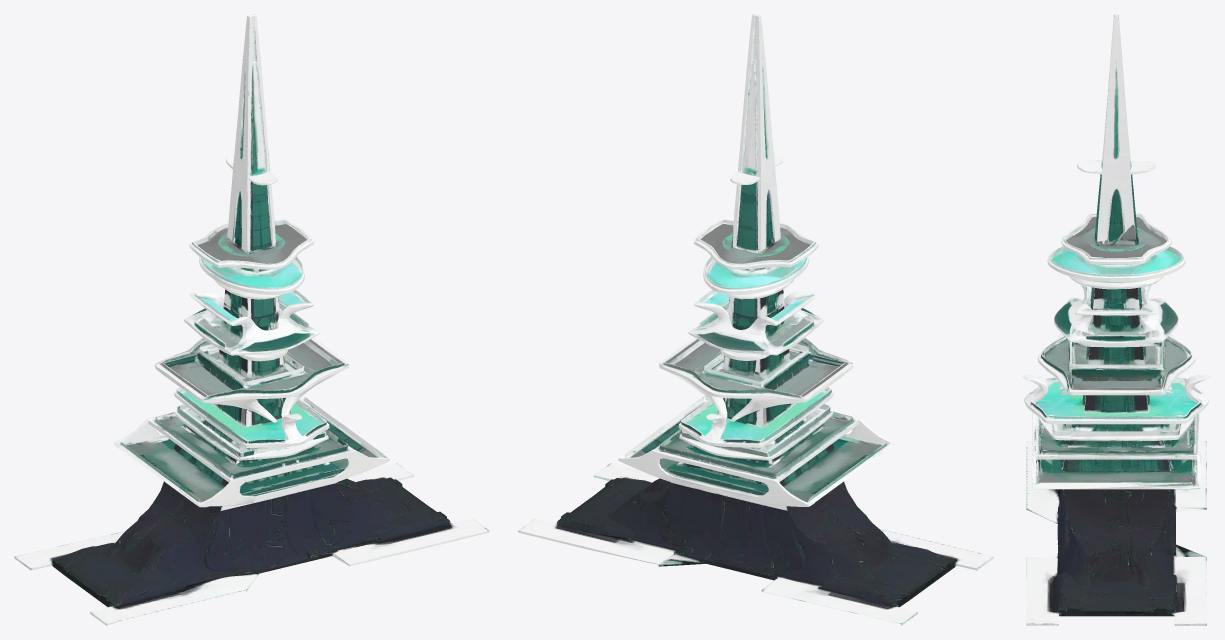
File: bld-sea-terrace-spire.glb
3 renders of one model, left to right at view 1: azimuth 30°, elevation 25°; view 2: azimuth 150°, elevation 25°; view 3: azimuth 270°, elevation 25°, orthographic. The views are drawn at different scales.
Visible parts, largest first — view 1: Mesh_0; view 2: Mesh_0; view 3: Mesh_0.
Part boxes in pixels (x1,y1,x2,y2): Mesh_0: [14, 14, 489, 625]; Mesh_0: [518, 14, 993, 625]; Mesh_0: [1022, 14, 1210, 625].
Size of the model in its own units: 1.43 by 1.9 by 0.6241.
1 material, 1 textured.
